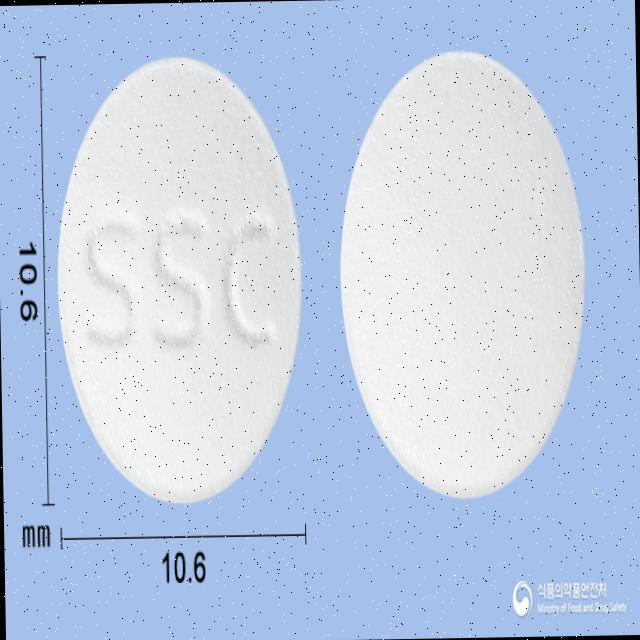Azabio - 50mg: (336, 47, 588, 500), (54, 56, 305, 506)
